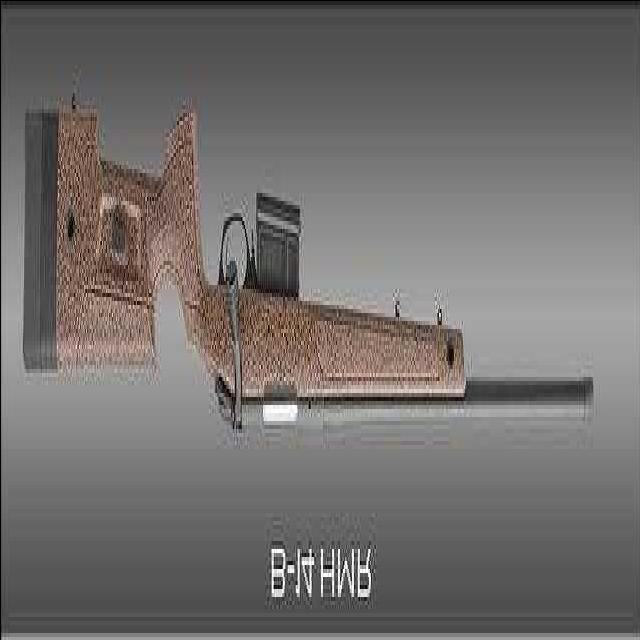heavyweapon: (13, 53, 602, 517)
